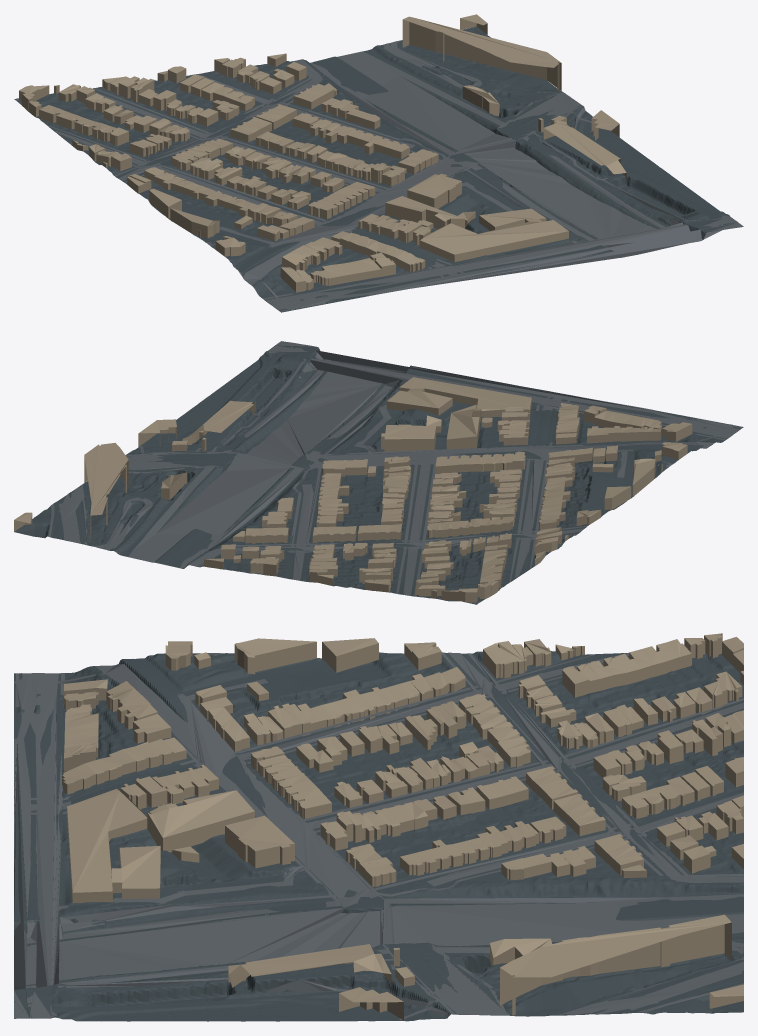
File: epsg26910-1428-10872.lod0.glb
The picture shows the model from 3 angles, top to bottom: view 1: azimuth 30°, elevation 25°; view 2: azimuth 150°, elevation 25°; view 3: azimuth 270°, elevation 25°; orthographic projection. The views are drawn at different scales.
Visible parts, largest first — view 1: epsg26910-1428-10872-lod0; view 2: epsg26910-1428-10872-lod0; view 3: epsg26910-1428-10872-lod0.
Part boxes in pixels (x1,y1,x2,y2): epsg26910-1428-10872-lod0: (14, 14, 743, 312); epsg26910-1428-10872-lod0: (14, 341, 743, 604); epsg26910-1428-10872-lod0: (14, 633, 743, 1021).
Bounding box in the file's own units: 384 × 51.93 × 384.
